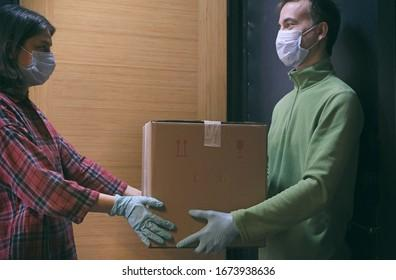gloves: (108, 191, 176, 249), (185, 203, 240, 253)
